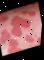plaque psoriasis: (3, 30, 42, 55), (7, 14, 34, 38), (19, 6, 39, 20), (0, 28, 11, 46), (0, 14, 9, 24), (34, 34, 42, 45), (23, 35, 32, 43)
